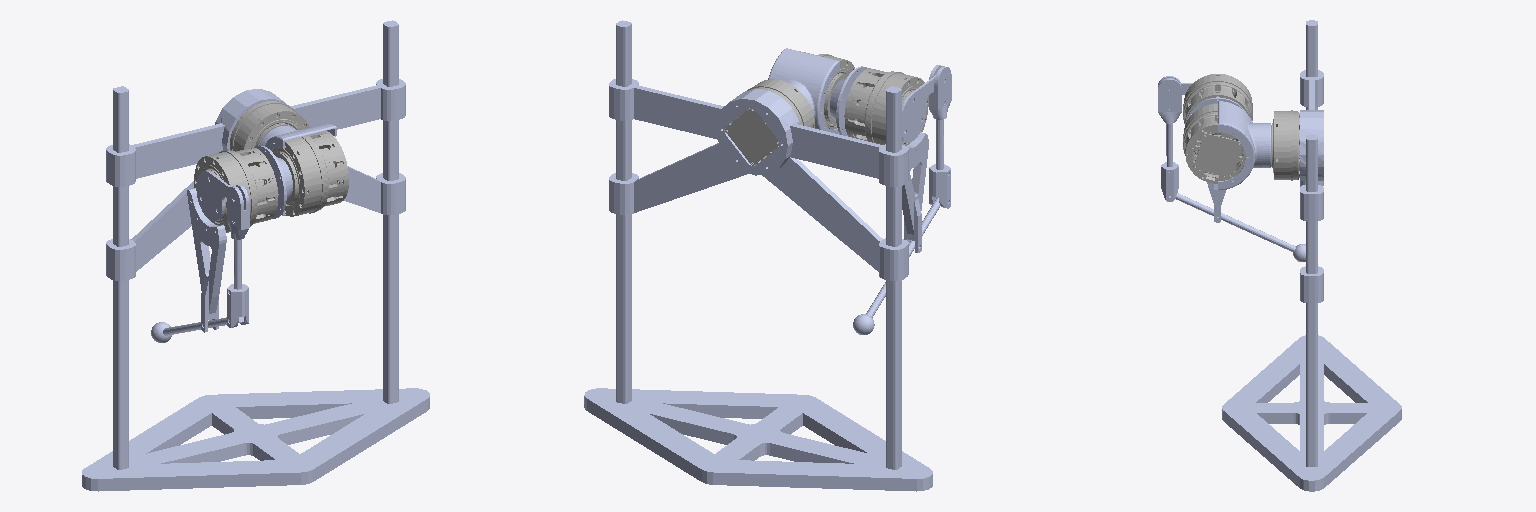
robot.urdf — slider_design_URDF:
<?xml version="1.0" encoding="utf-8"?>
<robot
  name="slider_design_URDF">
  <link
    name="base_link_stand">
    <inertial>
      <origin
        xyz="6.10622663543836E-16 0.000186556359450196 0.177272743445134"
        rpy="0 0 0" />
      <mass
        value="2.59347516998776" />
      <inertia
        ixx="0.122430377729961"
        ixy="-6.64879419839934E-17"
        ixz="-1.79469805425288E-16"
        iyy="0.183325511805914"
        iyz="-0.000156144898123056"
        izz="0.073945978938047" />
    </inertial>
    <visual>
      <origin
        xyz="0 0 0"
        rpy="0 0 0" />
      <geometry>
        <mesh
          filename="package://titanleg_gazebo/meshes/slider_design/base_link_stand.STL" />
      </geometry>
      <material
        name="">
        <color
          rgba="0.792156862745098 0.819607843137255 0.933333333333333 1" />
      </material>
    </visual>
    <collision>
      <origin
        xyz="0 0 0"
        rpy="0 0 0" />
      <geometry>
        <mesh
          filename="package://titanleg_gazebo/meshes/slider_design/base_link_stand.STL" />
      </geometry>
    </collision>
  </link>
  <link
    name="hip_act">
    <inertial>
      <origin
        xyz="3.32114702053521E-06 -0.0315283228576752 0.499999356474945"
        rpy="0 0 0" />
      <mass
        value="0.459454763928287" />
      <inertia
        ixx="0.000423368997531344"
        ixy="3.15207899133932E-09"
        ixz="1.66528842531295E-07"
        iyy="0.000785414768163331"
        iyz="3.20271247011331E-09"
        izz="0.000423378070299278" />
    </inertial>
    <visual>
      <origin
        xyz="0 0 0"
        rpy="0 0 0" />
      <geometry>
        <mesh
          filename="package://titanleg_gazebo/meshes/slider_design/hip_act.STL" />
      </geometry>
      <material
        name="">
        <color
          rgba="0.752941176470588 0.752941176470588 0.752941176470588 1" />
      </material>
    </visual>
    <collision>
      <origin
        xyz="0 0 0"
        rpy="0 0 0" />
      <geometry>
        <mesh
          filename="package://titanleg_gazebo/meshes/slider_design/hip_act.STL" />
      </geometry>
    </collision>
  </link>
  <joint
    name="stand_hip"
    type="fixed">
    <origin
      xyz="0 0 0"
      rpy="0 0 0" />
    <parent
      link="base_link_stand" />
    <child
      link="hip_act" />
    <axis
      xyz="0 0 0" />
  </joint>
  <link
    name="c_bracket">
    <inertial>
      <origin
        xyz="1.29531010331363E-05 -0.0938839573426781 0.499993336202208"
        rpy="0 0 0" />
      <mass
        value="0.1941398277098" />
      <inertia
        ixx="0.000246157573305319"
        ixy="3.72184232659441E-08"
        ixz="1.78676211476882E-09"
        iyy="0.000261155018400834"
        iyz="-1.04515996147018E-08"
        izz="0.000187909216337472" />
    </inertial>
    <visual>
      <origin
        xyz="0 0 0"
        rpy="0 0 0" />
      <geometry>
        <mesh
          filename="package://titanleg_gazebo/meshes/slider_design/c_bracket.STL" />
      </geometry>
      <material
        name="">
        <color
          rgba="0.792156862745098 0.819607843137255 0.933333333333333 1" />
      </material>
    </visual>
    <collision>
      <origin
        xyz="0 0 0"
        rpy="0 0 0" />
      <geometry>
        <mesh
          filename="package://titanleg_gazebo/meshes/slider_design/c_bracket.STL" />
      </geometry>
    </collision>
  </link>
  <joint
    name="hip_a_c_b"
    type="revolute">
    <origin
      xyz="0 0 0"
      rpy="0 0 0" />
    <parent
      link="hip_act" />
    <child
      link="c_bracket" />
    <axis
      xyz="0 -1 0" />
    <limit
      lower="0"
      upper="0"
      effort="0"
      velocity="0" />
  </joint>
  <link
    name="knee_act">
    <inertial>
      <origin
        xyz="-0.0105283228433629 -0.155996467737714 0.499999801595569"
        rpy="0 0 0" />
      <mass
        value="0.459454763368948" />
      <inertia
        ixx="0.000785414768124536"
        ixy="-1.20110195093395E-09"
        ixz="-4.18264847211513E-09"
        iyy="0.000423231039952221"
        iyz="8.59167594152018E-08"
        izz="0.000423516027817846" />
    </inertial>
    <visual>
      <origin
        xyz="0 0 0"
        rpy="0 0 0" />
      <geometry>
        <mesh
          filename="package://titanleg_gazebo/meshes/slider_design/knee_act.STL" />
      </geometry>
      <material
        name="">
        <color
          rgba="0.752941176470588 0.752941176470588 0.752941176470588 1" />
      </material>
    </visual>
    <collision>
      <origin
        xyz="0 0 0"
        rpy="0 0 0" />
      <geometry>
        <mesh
          filename="package://titanleg_gazebo/meshes/slider_design/knee_act.STL" />
      </geometry>
    </collision>
  </link>
  <joint
    name="c_knee"
    type="fixed">
    <origin
      xyz="0 0 0"
      rpy="0 0 0" />
    <parent
      link="c_bracket" />
    <child
      link="knee_act" />
    <axis
      xyz="0 0 0" />
    <limit
      lower="0"
      upper="0"
      effort="0"
      velocity="0" />
  </joint>
  <link
    name="connecter">
    <inertial>
      <origin
        xyz="-0.0627092553303077 -0.155999999999995 0.500000000000004"
        rpy="0 0 0" />
      <mass
        value="0.136163779993279" />
      <inertia
        ixx="0.000121813380866596"
        ixy="-1.11126012869145E-19"
        ixz="1.58157595894236E-20"
        iyy="6.99270541952128E-05"
        iyz="-6.81519276561268E-20"
        izz="6.99270541952126E-05" />
    </inertial>
    <visual>
      <origin
        xyz="0 0 0"
        rpy="0 0 0" />
      <geometry>
        <mesh
          filename="package://titanleg_gazebo/meshes/slider_design/connecter.STL" />
      </geometry>
      <material
        name="">
        <color
          rgba="0.792156862745098 0.819607843137255 0.933333333333333 1" />
      </material>
    </visual>
    <collision>
      <origin
        xyz="0 0 0"
        rpy="0 0 0" />
      <geometry>
        <mesh
          filename="package://titanleg_gazebo/meshes/slider_design/connecter.STL" />
      </geometry>
    </collision>
  </link>
  <joint
    name="knact_con"
    type="revolute">
    <origin
      xyz="0 0 0"
      rpy="0 0 0" />
    <parent
      link="knee_act" />
    <child
      link="connecter" />
    <axis
      xyz="-1 0 0" />
    <limit
      lower="0"
      upper="0"
      effort="0"
      velocity="0" />
  </joint>
  <link
    name="slide_act">
    <inertial>
      <origin
        xyz="-0.128528322842186 -0.155997781822786 0.499997296994449"
        rpy="0 0 0" />
      <mass
        value="0.45945476329286" />
      <inertia
        ixx="0.000785414768049983"
        ixy="-3.14528553173294E-09"
        ixz="-3.07860027929629E-09"
        iyy="0.00042337716722205"
        iyz="1.66719355801496E-07"
        izz="0.000423369900477097" />
    </inertial>
    <visual>
      <origin
        xyz="0 0 0"
        rpy="0 0 0" />
      <geometry>
        <mesh
          filename="package://titanleg_gazebo/meshes/slider_design/slide_act.STL" />
      </geometry>
      <material
        name="">
        <color
          rgba="0.752941176470588 0.752941176470588 0.752941176470588 1" />
      </material>
    </visual>
    <collision>
      <origin
        xyz="0 0 0"
        rpy="0 0 0" />
      <geometry>
        <mesh
          filename="package://titanleg_gazebo/meshes/slider_design/slide_act.STL" />
      </geometry>
    </collision>
  </link>
  <joint
    name="con_slact"
    type="fixed">
    <origin
      xyz="0 0 0"
      rpy="0 0 0" />
    <parent
      link="connecter" />
    <child
      link="slide_act" />
    <axis
      xyz="0 0 0" />
  </joint>
  <link
    name="slider_1">
    <inertial>
      <origin
        xyz="-0.165994134887291 -0.168670165667458 0.506409800876571"
        rpy="0 0 0" />
      <mass
        value="0.0227075461559264" />
      <inertia
        ixx="2.96121867175513E-05"
        ixy="-1.68744202738817E-09"
        ixz="8.53672135801245E-10"
        iyy="9.4534331925605E-06"
        iyz="6.03941429902899E-06"
        izz="2.02192166309363E-05" />
    </inertial>
    <visual>
      <origin
        xyz="0 0 0"
        rpy="0 0 0" />
      <geometry>
        <mesh
          filename="package://titanleg_gazebo/meshes/slider_design/slider_1.STL" />
      </geometry>
      <material
        name="">
        <color
          rgba="0.792156862745098 0.819607843137255 0.933333333333333 1" />
      </material>
    </visual>
    <collision>
      <origin
        xyz="0 0 0"
        rpy="0 0 0" />
      <geometry>
        <mesh
          filename="package://titanleg_gazebo/meshes/slider_design/slider_1.STL" />
      </geometry>
    </collision>
  </link>
  <joint
    name="act_sl1"
    type="revolute">
    <origin
      xyz="0 0 0"
      rpy="0 0 0" />
    <parent
      link="slide_act" />
    <child
      link="slider_1" />
    <axis
      xyz="-1 0 0" />
    <limit
      lower="0"
      upper="0"
      effort="0"
      velocity="0" />
  </joint>
  <link
    name="slider_2">
    <inertial>
      <origin
        xyz="-0.165987300392327 -0.236011570879544 0.50693946183179"
        rpy="0 0 0" />
      <mass
        value="0.0349242700670582" />
      <inertia
        ixx="1.85733821282022E-05"
        ixy="-1.80568328873661E-11"
        ixz="-2.30085352135554E-09"
        iyy="1.50315418382489E-05"
        iyz="1.62362253121418E-08"
        izz="5.08895980356463E-06" />
    </inertial>
    <visual>
      <origin
        xyz="0 0 0"
        rpy="0 0 0" />
      <geometry>
        <mesh
          filename="package://titanleg_gazebo/meshes/slider_design/slider_2.STL" />
      </geometry>
      <material
        name="">
        <color
          rgba="0.792156862745098 0.819607843137255 0.933333333333333 1" />
      </material>
    </visual>
    <collision>
      <origin
        xyz="0 0 0"
        rpy="0 0 0" />
      <geometry>
        <mesh
          filename="package://titanleg_gazebo/meshes/slider_design/slider_2.STL" />
      </geometry>
    </collision>
  </link>
  <joint
    name="sl1_sl2"
    type="revolute">
    <origin
      xyz="0 0 0"
      rpy="0 0 0" />
    <parent
      link="slider_1" />
    <child
      link="slider_2" />
    <axis
      xyz="1 0 0" />
    <limit
      lower="0"
      upper="0"
      effort="0"
      velocity="0" />
  </joint>
  <link
    name="driver_rod">
    <inertial>
      <origin
        xyz="-0.166 -0.235896141474479 0.436652535858943"
        rpy="0 0 0" />
      <mass
        value="0.0124305545034589" />
      <inertia
        ixx="1.5037275756186E-05"
        ixy="-5.89896962782277E-13"
        ixz="5.60965314368876E-13"
        iyy="1.50353666083867E-05"
        iyz="2.4337046111764E-08"
        izz="2.06465136266972E-07" />
    </inertial>
    <visual>
      <origin
        xyz="0 0 0"
        rpy="0 0 0" />
      <geometry>
        <mesh
          filename="package://titanleg_gazebo/meshes/slider_design/driver_rod.STL" />
      </geometry>
      <material
        name="">
        <color
          rgba="0.792156862745098 0.819607843137255 0.933333333333333 1" />
      </material>
    </visual>
    <collision>
      <origin
        xyz="0 0 0"
        rpy="0 0 0" />
      <geometry>
        <mesh
          filename="package://titanleg_gazebo/meshes/slider_design/driver_rod.STL" />
      </geometry>
    </collision>
  </link>
  <joint
    name="sl2_rod"
    type="fixed">
    <origin
      xyz="0 0 0"
      rpy="0 0 0" />
    <parent
      link="slider_2" />
    <child
      link="driver_rod" />
    <axis
      xyz="0 0 0" />
  </joint>
  <link
    name="slider_3">
    <inertial>
      <origin
        xyz="-0.165968905240866 -0.235769905529503 0.359735993431928"
        rpy="0 0 0" />
      <mass
        value="0.0327017150775501" />
      <inertia
        ixx="9.2770972112113E-06"
        ixy="-2.14206940806661E-12"
        ixz="1.32397826471156E-09"
        iyy="9.93886648494575E-06"
        iyz="9.96896051989336E-09"
        izz="3.86478623890975E-06" />
    </inertial>
    <visual>
      <origin
        xyz="0 0 0"
        rpy="0 0 0" />
      <geometry>
        <mesh
          filename="package://titanleg_gazebo/meshes/slider_design/slider_3.STL" />
      </geometry>
      <material
        name="">
        <color
          rgba="0.792156862745098 0.819607843137255 0.933333333333333 1" />
      </material>
    </visual>
    <collision>
      <origin
        xyz="0 0 0"
        rpy="0 0 0" />
      <geometry>
        <mesh
          filename="package://titanleg_gazebo/meshes/slider_design/slider_3.STL" />
      </geometry>
    </collision>
  </link>
  <joint
    name="rod_sl3"
    type="fixed">
    <origin
      xyz="0 0 0"
      rpy="0 0 0" />
    <parent
      link="driver_rod" />
    <child
      link="slider_3" />
    <axis
      xyz="0 0 0" />
  </joint>
  <link
    name="main_rod">
    <inertial>
      <origin
        xyz="-0.166000000381638 -0.0872977391304248 0.261603056632975"
        rpy="0 0 0" />
      <mass
        value="0.03834406116007" />
      <inertia
        ixx="0.000124089295700755"
        ixy="-1.25934739968129E-12"
        ixz="4.84609440109473E-14"
        iyy="2.63538779617982E-05"
        iyz="4.89413548299659E-05"
        izz="9.95797372498691E-05" />
    </inertial>
    <visual>
      <origin
        xyz="0 0 0"
        rpy="0 0 0" />
      <geometry>
        <mesh
          filename="package://titanleg_gazebo/meshes/slider_design/main_rod.STL" />
      </geometry>
      <material
        name="">
        <color
          rgba="0.792156862745098 0.819607843137255 0.933333333333333 1" />
      </material>
    </visual>
    <collision>
      <origin
        xyz="0 0 0"
        rpy="0 0 0" />
      <geometry>
        <mesh
          filename="package://titanleg_gazebo/meshes/slider_design/main_rod.STL" />
      </geometry>
    </collision>
  </link>
  <joint
    name="sl3_mainrod"
    type="revolute">
    <origin
      xyz="0 0 0"
      rpy="0 0 0" />
    <parent
      link="slider_3" />
    <child
      link="main_rod" />
    <axis
      xyz="1 0 0" />
    <limit
      lower="0"
      upper="0"
      effort="0"
      velocity="0" />
  </joint>
  <link
    name="front_leg">
    <inertial>
      <origin
        xyz="-0.166327568109669 -0.150616282403251 0.400833445478485"
        rpy="0 0 0" />
      <mass
        value="0.0933588484666221" />
      <inertia
        ixx="0.000261206736608851"
        ixy="-4.04589541357779E-08"
        ixz="-5.26917929784811E-07"
        iyy="0.000221587958535765"
        iyz="-2.73142947798179E-05"
        izz="4.30338297696853E-05" />
    </inertial>
    <visual>
      <origin
        xyz="0 0 0"
        rpy="0 0 0" />
      <geometry>
        <mesh
          filename="package://titanleg_gazebo/meshes/slider_design/front_leg.STL" />
      </geometry>
      <material
        name="">
        <color
          rgba="0.792156862745098 0.819607843137255 0.933333333333333 1" />
      </material>
    </visual>
    <collision>
      <origin
        xyz="0 0 0"
        rpy="0 0 0" />
      <geometry>
        <mesh
          filename="package://titanleg_gazebo/meshes/slider_design/front_leg.STL" />
      </geometry>
    </collision>
  </link>
  <joint
    name="sact_leg"
    type="fixed">
    <origin
      xyz="0 0 0"
      rpy="0 0 0" />
    <parent
      link="slide_act" />
    <child
      link="front_leg" />
    <axis
      xyz="0 0 0" />
  </joint>
  <link
    name="mainrod1">
    <inertial>
      <origin
        xyz="-0.166000000381639 -0.0872977391304275 0.261603056632973"
        rpy="0 0 0" />
      <mass
        value="0.0383440611600699" />
      <inertia
        ixx="0.000124089295700754"
        ixy="-1.25934739001152E-12"
        ixz="4.84609376955384E-14"
        iyy="2.6353877961798E-05"
        iyz="4.89413548299656E-05"
        izz="9.95797372498684E-05" />
    </inertial>
    <visual>
      <origin
        xyz="0 0 0"
        rpy="0 0 0" />
      <geometry>
        <mesh
          filename="package://titanleg_gazebo/meshes/slider_design/mainrod1.STL" />
      </geometry>
      <material
        name="">
        <color
          rgba="0.792156862745098 0.819607843137255 0.933333333333333 1" />
      </material>
    </visual>
    <collision>
      <origin
        xyz="0 0 0"
        rpy="0 0 0" />
      <geometry>
        <mesh
          filename="package://titanleg_gazebo/meshes/slider_design/mainrod1.STL" />
      </geometry>
    </collision>
  </link>
  <joint
    name="leg_rod"
    type="revolute">
    <origin
      xyz="0 0 0"
      rpy="0 0 0" />
    <parent
      link="front_leg" />
    <child
      link="mainrod1" />
    <axis
      xyz="0 0 0" />
    <limit
      lower="0"
      upper="0"
      effort="0"
      velocity="0" />
  </joint>
</robot>

--- Facts derived from the render (not from the file) ---
Views: 3 orthographic renders of the robot side by side, from view 1: azimuth 30°, elevation 25°; view 2: azimuth 150°, elevation 25°; view 3: azimuth 270°, elevation 25°.
Model slider_design_URDF with 13 links and 12 joints (6 revolute, 6 fixed), rooted at base_link_stand, posed all joints at 0.
Visible links, largest first — view 1: base_link_stand, knee_act, slide_act, front_leg, hip_act, slider_1, slider_2, connecter, c_bracket, slider_3, main_rod; view 2: base_link_stand, slide_act, hip_act, c_bracket, front_leg, slider_1, slider_2, main_rod, connecter, slider_3, knee_act; view 3: base_link_stand, knee_act, c_bracket, hip_act, slide_act, slider_2, main_rod, slider_3.
Link boxes in pixels (x1,y1,x2,y2): base_link_stand: (82,20,429,491); knee_act: (272,131,348,216); slide_act: (194,148,278,232); front_leg: (187,188,226,332); hip_act: (230,101,309,151); slider_1: (196,170,230,221); slider_2: (227,185,249,239); connecter: (254,146,292,218); c_bracket: (259,124,336,215); slider_3: (227,284,248,327); main_rod: (151,317,243,342); base_link_stand: (584,20,932,491); slide_act: (844,68,928,145); hip_act: (725,79,814,165); c_bracket: (768,48,839,134); front_leg: (902,132,928,252); slider_1: (902,75,935,142); slider_2: (929,65,951,119); main_rod: (853,198,939,334); connecter: (830,66,868,135); slider_3: (929,164,950,208); knee_act: (800,51,854,129); base_link_stand: (1222,20,1401,491); knee_act: (1183,104,1248,183); c_bracket: (1218,101,1271,189); hip_act: (1272,110,1299,180); slide_act: (1183,74,1252,124); slider_2: (1158,76,1181,123); main_rod: (1175,193,1305,261); slider_3: (1161,162,1178,201).
Size in the robot's own frame: 0.5738 by 0.406 by 0.62 metres.
Meshes: 13 distinct files referenced, 12 mesh visuals loaded (12 binary STL); not drawn: 1 (reference not matched to a file when rendering).